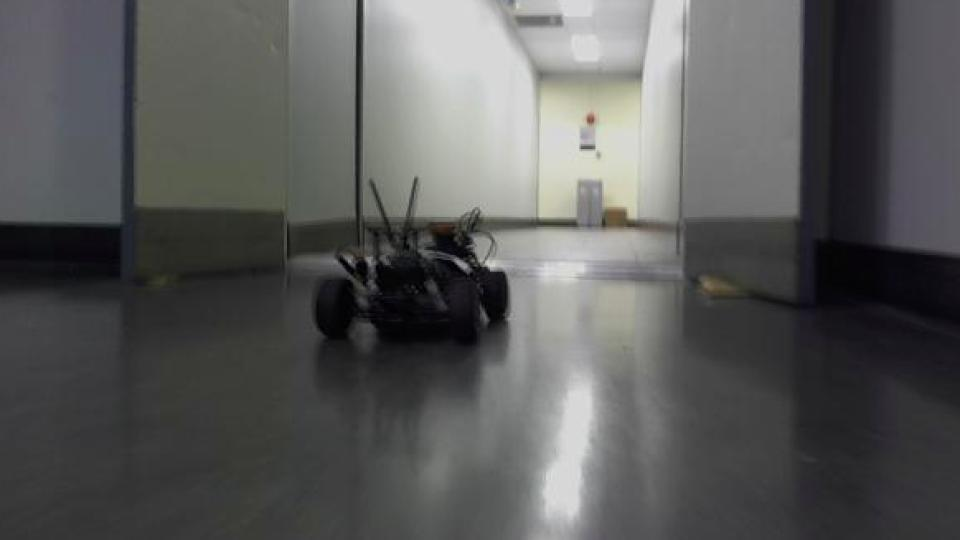car: (308, 172, 513, 350)
